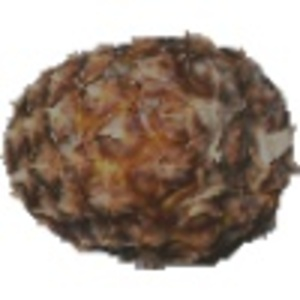abacaxi: (7, 9, 294, 267)
